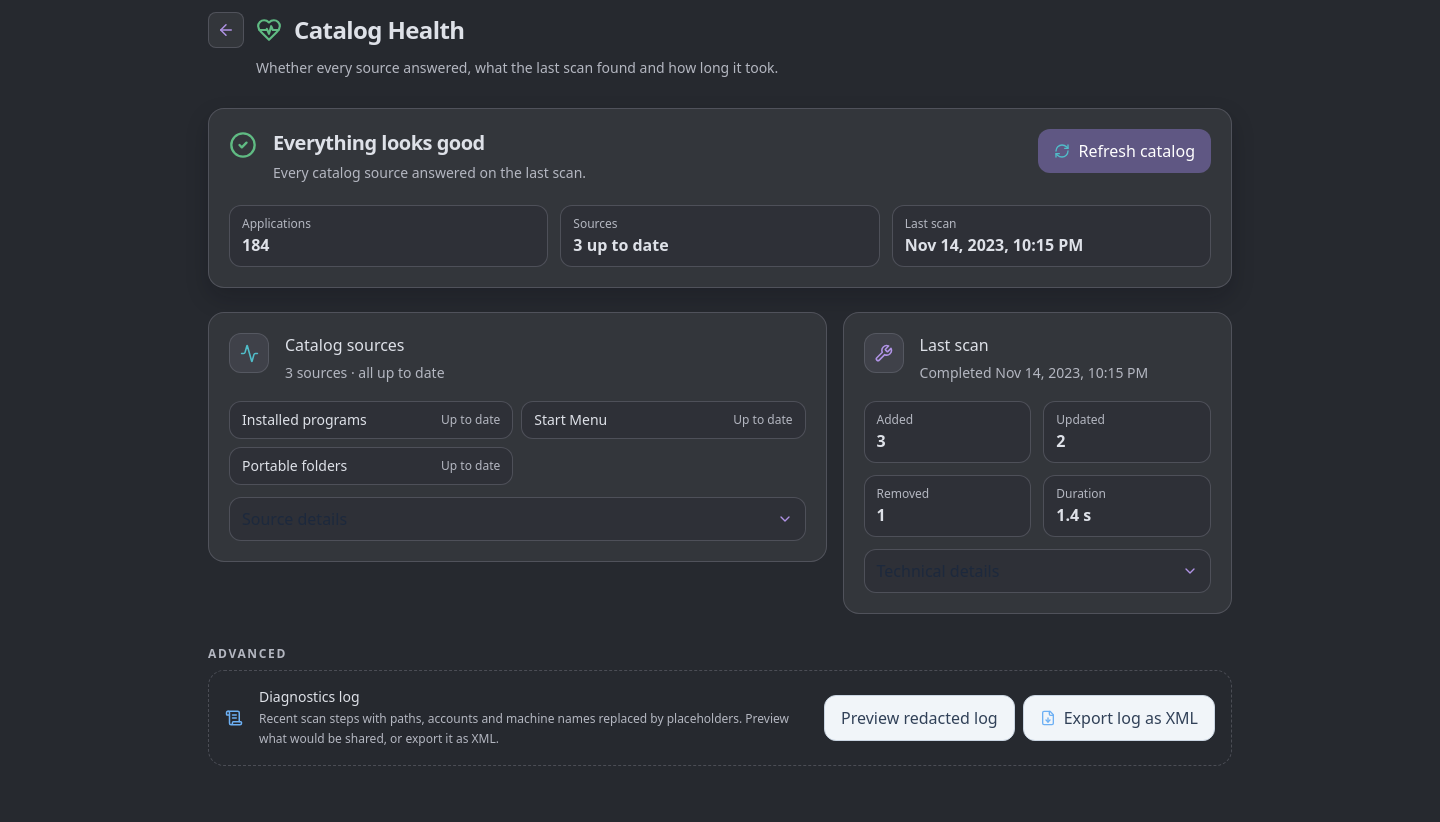
Test: CatalogHealthPage › exposes the redacted preview as a named, focusable region
Click the button "Preview redacted log" at (919, 718), box [824,695,1015,741]
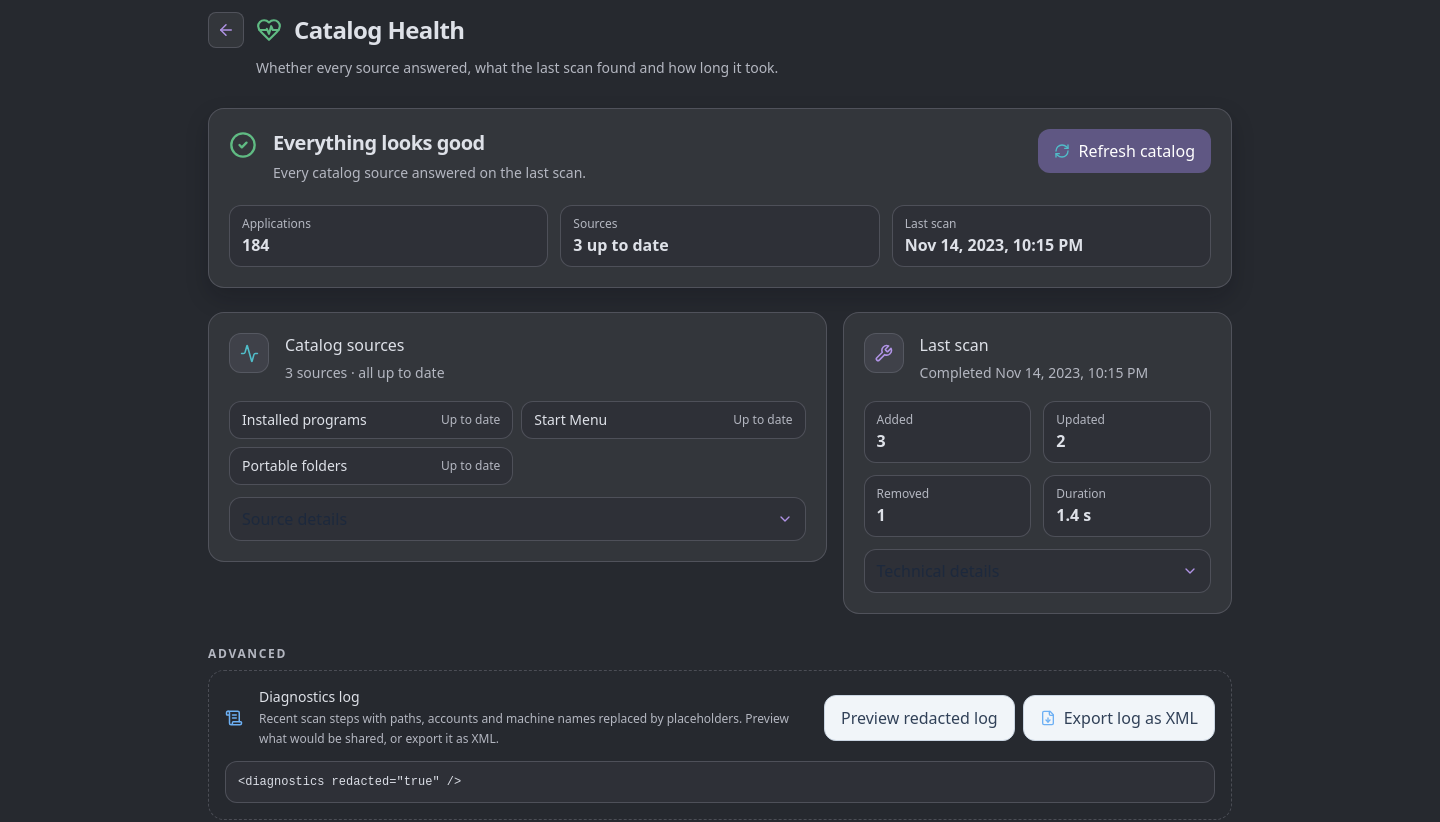
Expected: the text named "Redacted diagnostics preview" reads "<diagnostics redacted=\"true\" />", [238,775,461,789]
